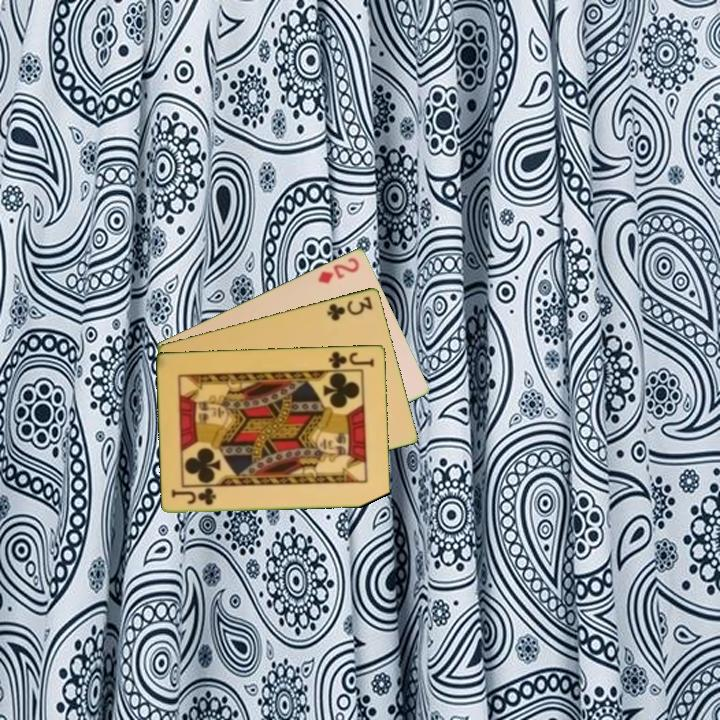2d: (314, 254, 362, 286)
3c: (323, 292, 376, 323)
Jc: (326, 347, 377, 371), (168, 485, 219, 508)
